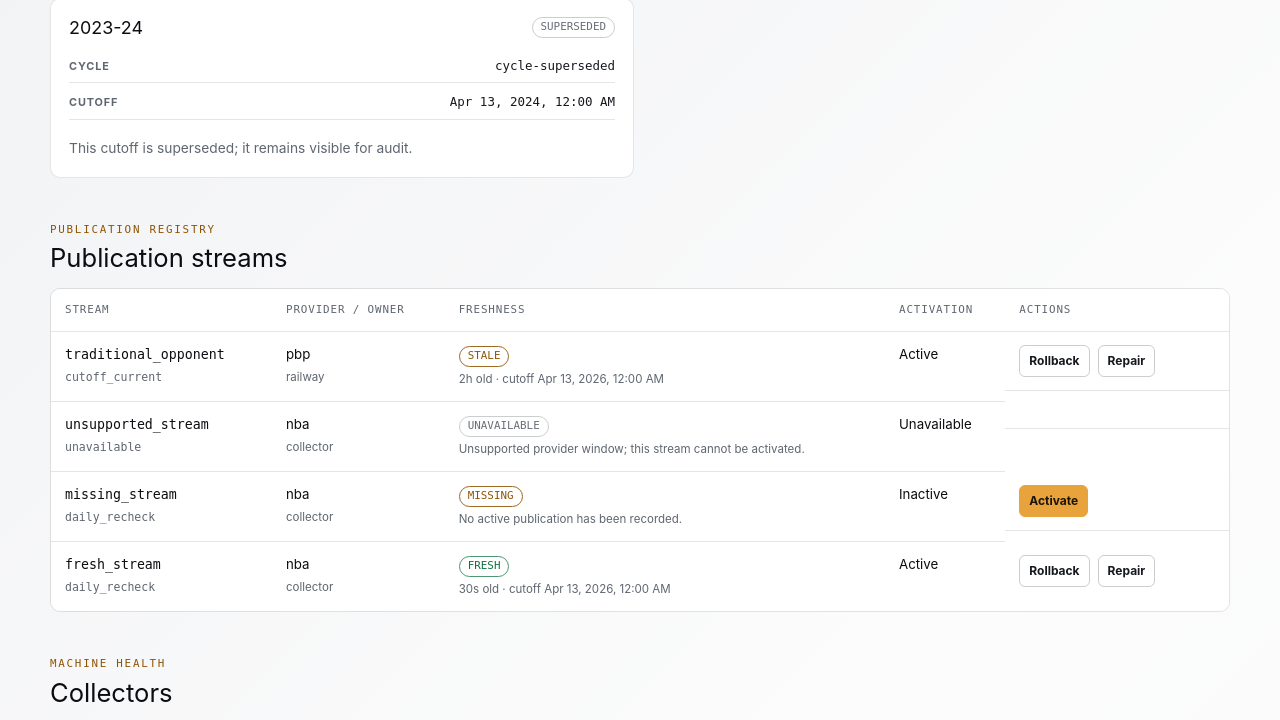
prevents duplicate submission while a durable action is pending
(page scrolled)
Expected: the heading "Publication streams" is shown, [50, 243, 288, 274]
Click the button with aria-label "Rollback traditional_opponent" at (1054, 361), box [1019, 345, 1090, 377]
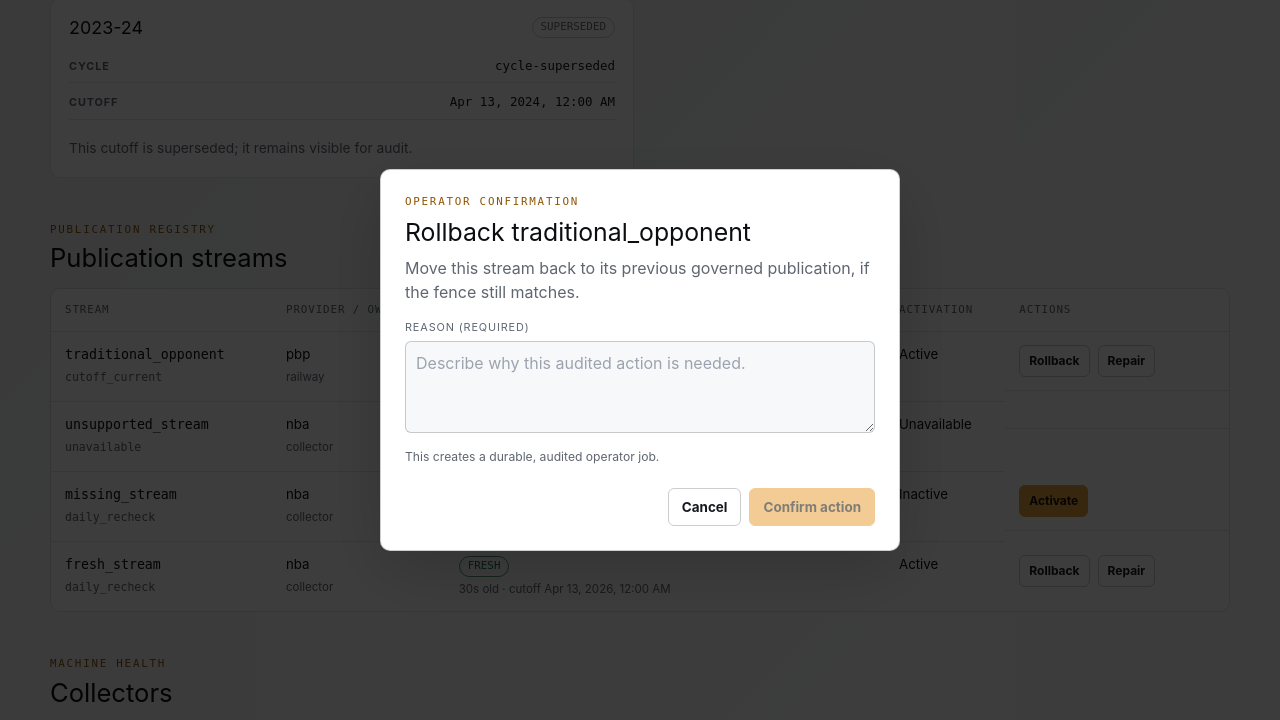
Type "Use the prior governed publication" into the text box labelled "Reason (required)" at (640, 387), box [405, 341, 875, 433]
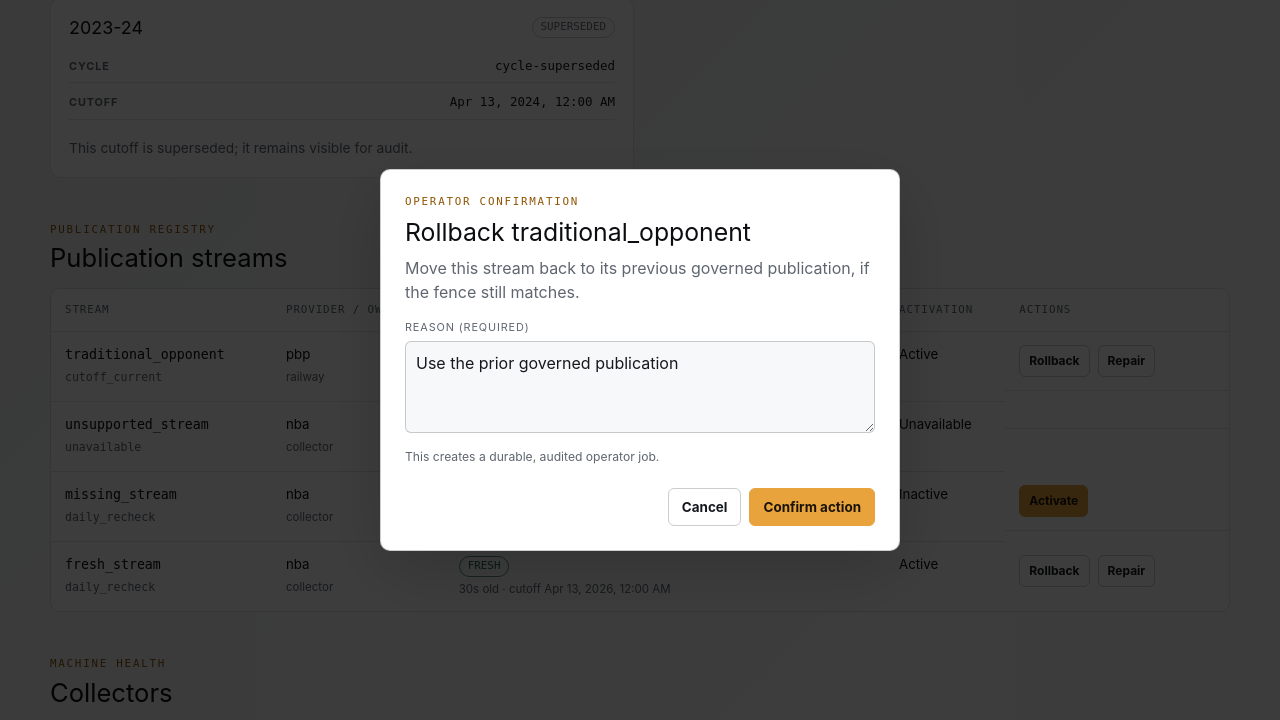
Click the button "Confirm action" at (812, 507), box [750, 488, 875, 526]
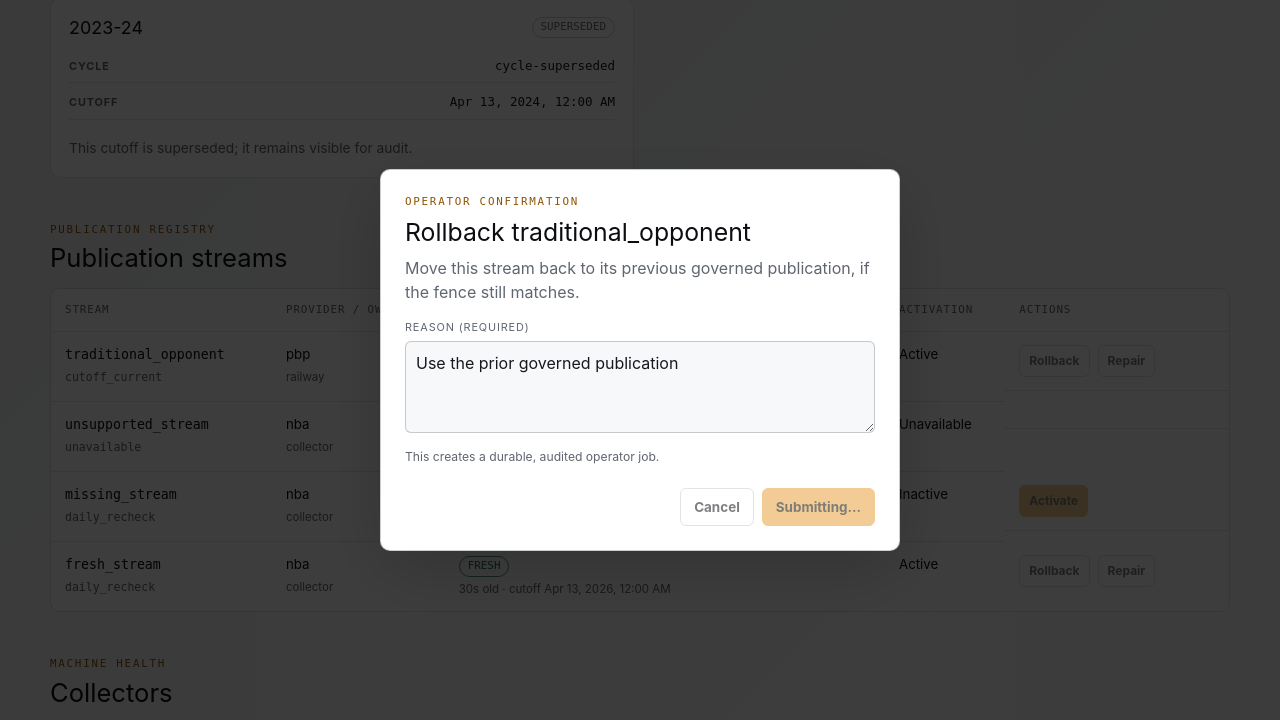
Expected: the button "Submitting…" is disabled
Click the button "Submitting…" at (818, 507), box [762, 488, 875, 526]
(page scrolled)
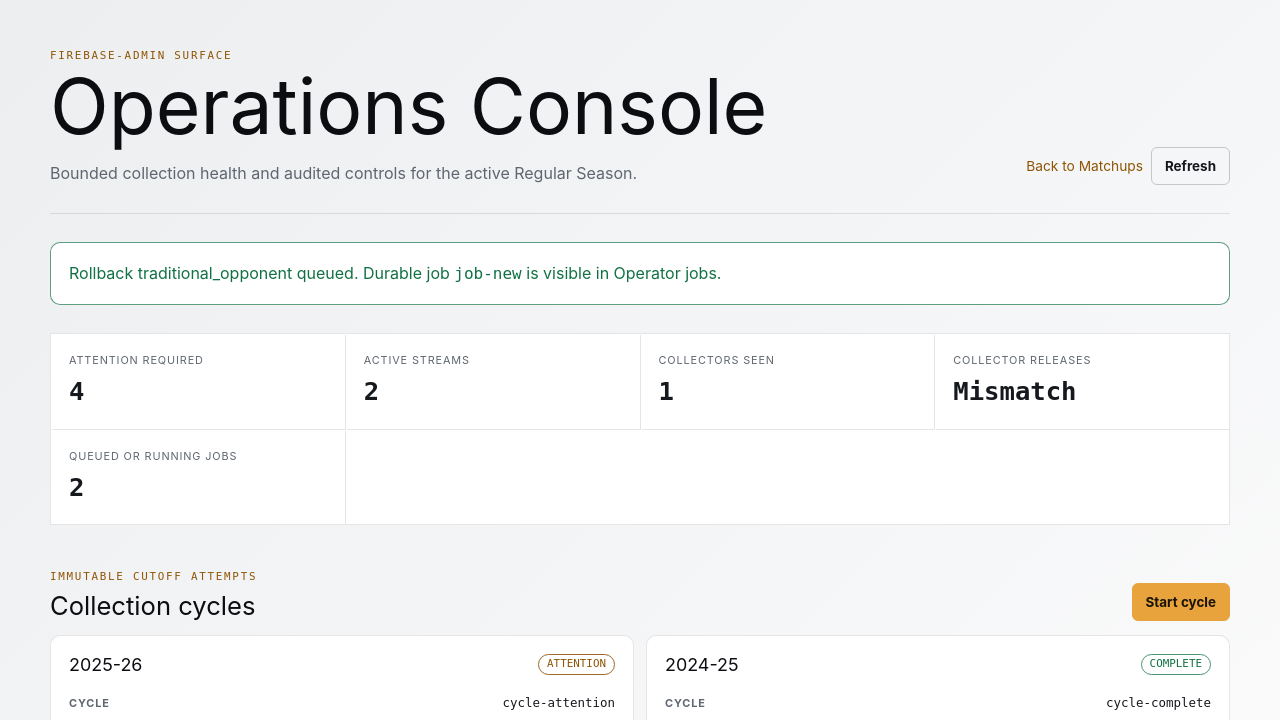
Expected: the text "Durable job" is shown, [358, 263, 454, 283]
